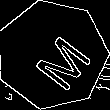M_NW: (17, 21, 87, 88)
